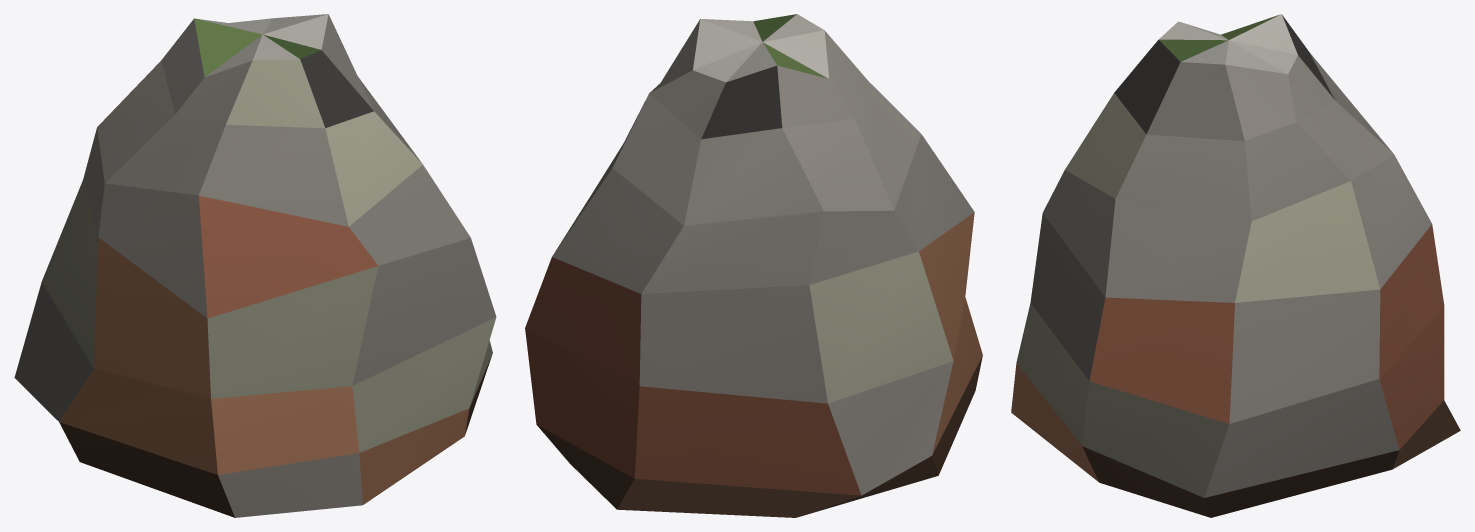
File: rock_half_buried_a.glb
3 renders of one model, left to right at view 1: azimuth 30°, elevation 25°; view 2: azimuth 150°, elevation 25°; view 3: azimuth 270°, elevation 25°, orthographic. The views are drawn at different scales.
Parts seen in each view (by area): view 1: rock_half_buried_a; view 2: rock_half_buried_a; view 3: rock_half_buried_a.
Part boxes in pixels (x1,y1,x2,y2): rock_half_buried_a: [14, 14, 496, 517]; rock_half_buried_a: [525, 14, 982, 517]; rock_half_buried_a: [1011, 14, 1460, 517].
Size of the model in its own units: 0.6975 by 0.6483 by 0.6879.
Materials: 1 (1 with a texture image).
